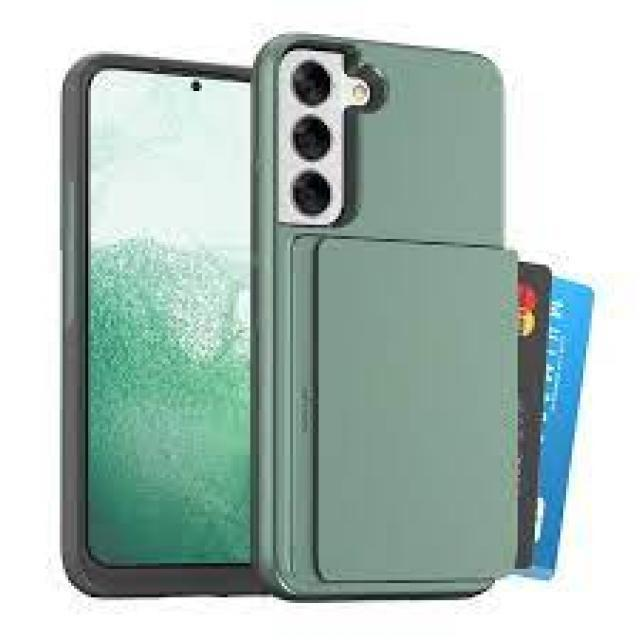phone: (51, 48, 258, 606)
